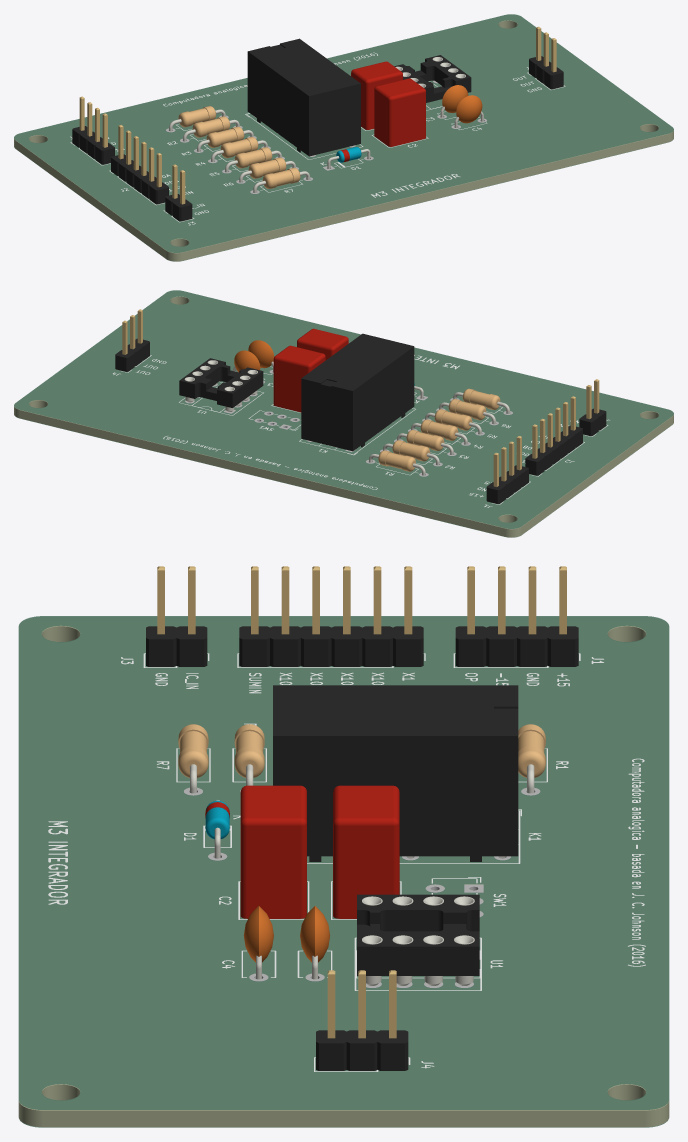
The model's file is placa.glb.
The picture shows the model from 3 angles, top to bottom: view 1: azimuth 30°, elevation 25°; view 2: azimuth 150°, elevation 25°; view 3: azimuth 270°, elevation 25°; orthographic projection. The views are drawn at different scales.
Visible parts, largest first — view 1: =>[0:1:1:26], =>[0:1:1:24], =>[0:1:1:15], =>[0:1:1:3] (×2), =>[0:1:1:5] (×7), =>[0:1:1:17], =>[0:1:1:23], =>[0:1:1:11], =>[0:1:1:19], =>[0:1:1:21], =>[0:1:1:7] (×2), =>[0:1:1:9] (+3 smaller); view 2: =>[0:1:1:26], =>[0:1:1:24], =>[0:1:1:15], =>[0:1:1:5] (×7), =>[0:1:1:3] (×2), =>[0:1:1:11], =>[0:1:1:17], =>[0:1:1:23], =>[0:1:1:19], =>[0:1:1:21], =>[0:1:1:7] (×2), =>[0:1:1:9] (+2 smaller); view 3: =>[0:1:1:26], =>[0:1:1:24], =>[0:1:1:15], =>[0:1:1:3] (×2), =>[0:1:1:11], =>[0:1:1:17], =>[0:1:1:19], =>[0:1:1:23], =>[0:1:1:21], =>[0:1:1:5] (×3), =>[0:1:1:9], =>[0:1:1:7] (×2) (+2 smaller).
Part boxes in pixels (left/top/right/bottom): =>[0:1:1:26]: left=14, top=15, right=673, bottom=261; =>[0:1:1:24]: left=14, top=14, right=673, bottom=252; =>[0:1:1:15]: left=247, top=38, right=360, bottom=156; =>[0:1:1:3] (×2): left=351, top=61, right=425, bottom=146; =>[0:1:1:5] (×7): left=169, top=106, right=309, bottom=192; =>[0:1:1:17]: left=111, top=125, right=168, bottom=204; =>[0:1:1:23]: left=70, top=52, right=565, bottom=225; =>[0:1:1:11]: left=394, top=55, right=471, bottom=102; =>[0:1:1:19]: left=72, top=96, right=114, bottom=164; =>[0:1:1:21]: left=529, top=26, right=563, bottom=89; =>[0:1:1:7] (×2): left=440, top=85, right=483, bottom=127; =>[0:1:1:9]: left=165, top=164, right=192, bottom=221; =>[0:1:1:26]: left=14, top=291, right=673, bottom=537; =>[0:1:1:24]: left=14, top=290, right=673, bottom=528; =>[0:1:1:15]: left=301, top=333, right=414, bottom=451; =>[0:1:1:5] (×7): left=369, top=388, right=509, bottom=475; =>[0:1:1:3] (×2): left=273, top=328, right=348, bottom=412; =>[0:1:1:11]: left=179, top=358, right=263, bottom=411; =>[0:1:1:17]: left=525, top=396, right=582, bottom=475; =>[0:1:1:23]: left=113, top=355, right=609, bottom=507; =>[0:1:1:19]: left=486, top=436, right=528, bottom=503; =>[0:1:1:21]: left=115, top=309, right=149, bottom=371; =>[0:1:1:7] (×2): left=232, top=340, right=274, bottom=372; =>[0:1:1:9]: left=579, top=379, right=606, bottom=435; =>[0:1:1:26]: left=18, top=617, right=669, bottom=1127; =>[0:1:1:24]: left=18, top=616, right=669, bottom=1109; =>[0:1:1:15]: left=273, top=685, right=518, bottom=861; =>[0:1:1:3] (×2): left=240, top=785, right=399, bottom=918; =>[0:1:1:11]: left=357, top=894, right=479, bottom=985; =>[0:1:1:17]: left=239, top=566, right=423, bottom=666; =>[0:1:1:19]: left=455, top=566, right=578, bottom=666; =>[0:1:1:23]: left=48, top=653, right=645, bottom=1071; =>[0:1:1:21]: left=316, top=970, right=408, bottom=1070; =>[0:1:1:5] (×3): left=178, top=724, right=545, bottom=793; =>[0:1:1:9]: left=146, top=566, right=207, bottom=666; =>[0:1:1:7] (×2): left=243, top=906, right=330, bottom=979.
Bounding box in the file's own units: 0.0967 × 0.0153 × 0.0538.
